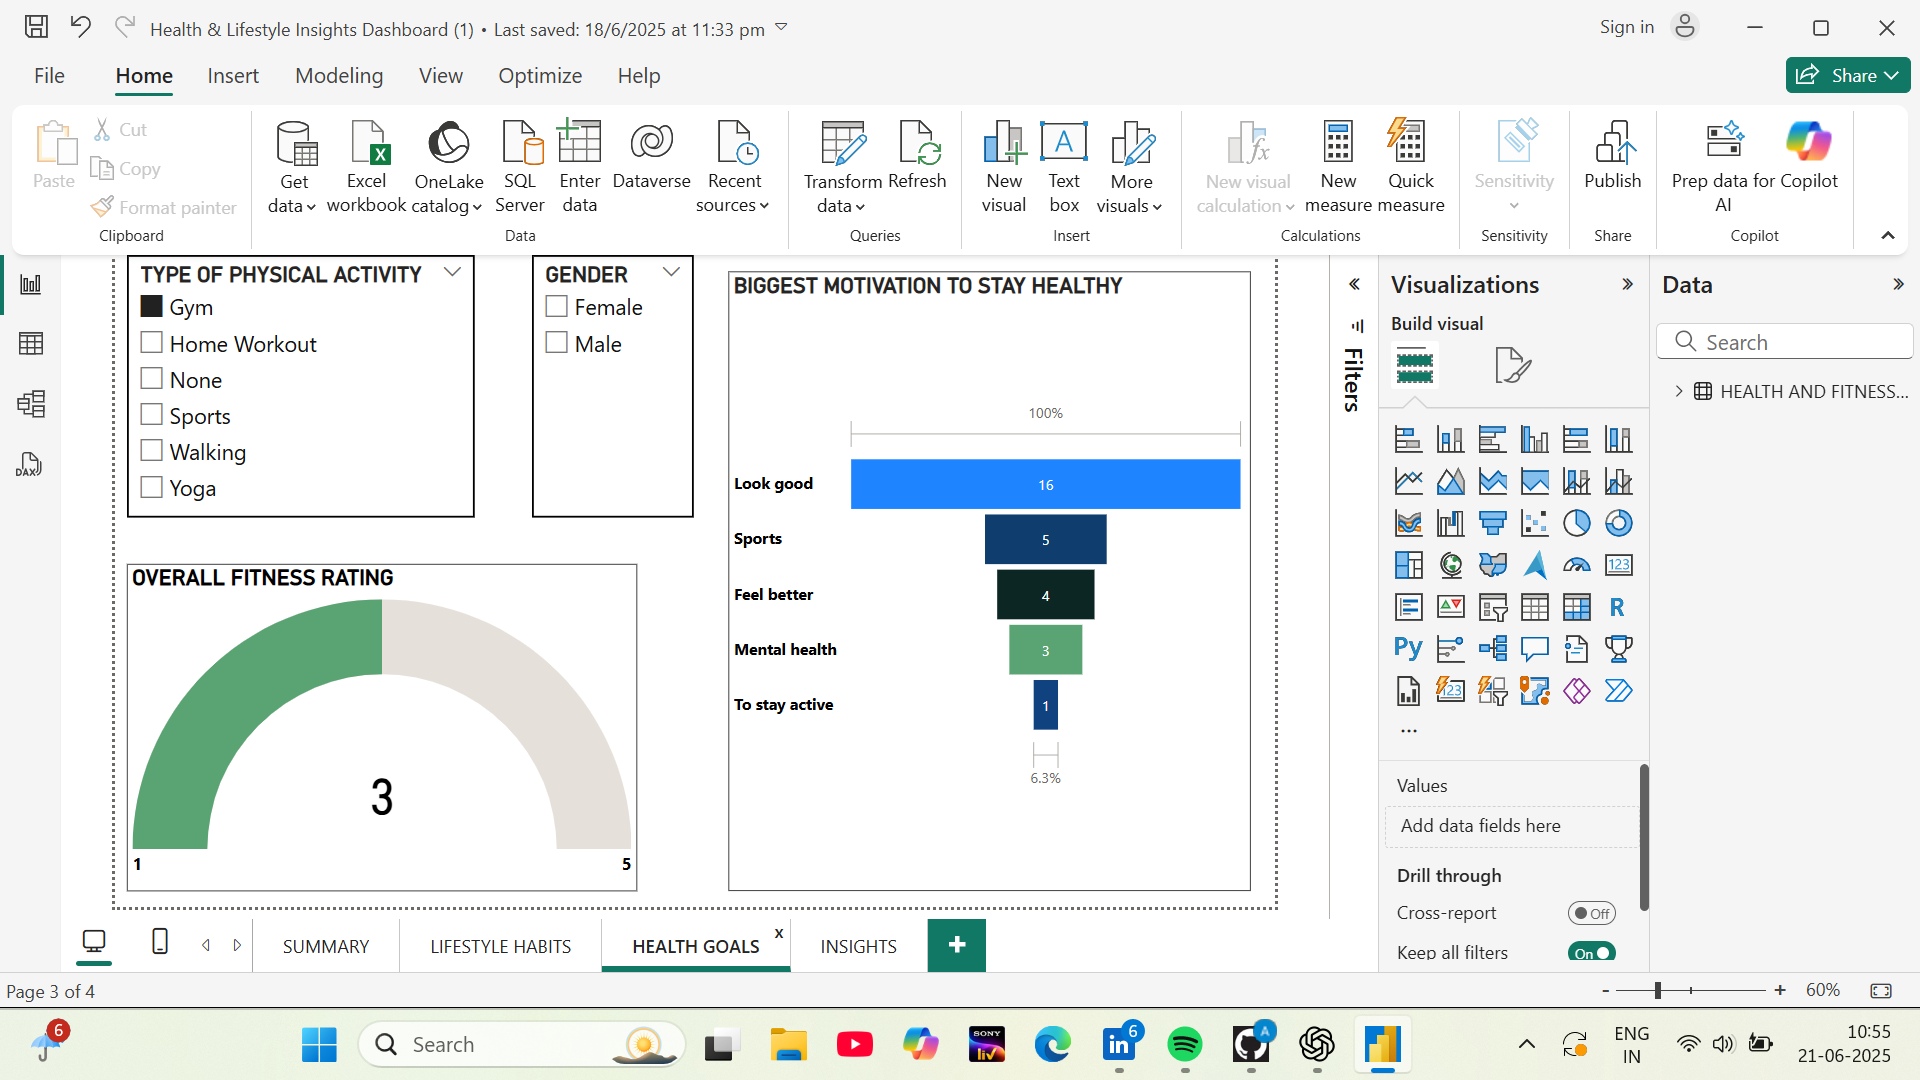

Layout of this report page (visuals, bound fields, positions):
{"tool":"powerbi","page":{"name":"HEALTH GOALS","canvas":[1280,720],"ordinal":2},"visuals":[{"type":"gauge","title":"OVERALL FITNESS RATING","fields":{"Y":["Median(HEALTH AND FITNESS SURVEY.FITNESS LEVEL)"],"MinValue":["Min(HEALTH AND FITNESS SURVEY.FITNESS LEVEL)"],"MaxValue":["Max(HEALTH AND FITNESS SURVEY.FITNESS LEVEL)"]},"box":[48,341.2,563.2,361.1],"z":0},{"type":"slicer","fields":{"Values":["HEALTH AND FITNESS SURVEY.TYPE OF PHYSICAL ACTIVITY"]},"box":[122.6,18.2,437.3,294.9],"z":1000},{"type":"funnel","title":"BIGGEST MOTIVATION TO STAY HEALTHY","fields":{"Y":["CountNonNull(HEALTH AND FITNESS SURVEY.What is your biggest motivation to stay healthy?.1)"],"Category":["HEALTH AND FITNESS SURVEY.What is your biggest motivation to stay healthy?.1"]},"box":[639.4,56.3,614.6,646],"z":2000}]}

Visuals, with their boxes on the page's 1280x720 design canvas (x1, y1, x2, y2). These are canvas units, not pixel positions in the 1920x1080 screenshot, which may show the page scaled, cropped or inside an application window:
"OVERALL FITNESS RATING" gauge: <box>48,341,611,702</box>
slicer - HEALTH AND FITNESS SURVEY.TYPE OF PHYSICAL ACTIVITY: <box>123,18,560,313</box>
"BIGGEST MOTIVATION TO STAY HEALTHY" funnel: <box>639,56,1254,702</box>
